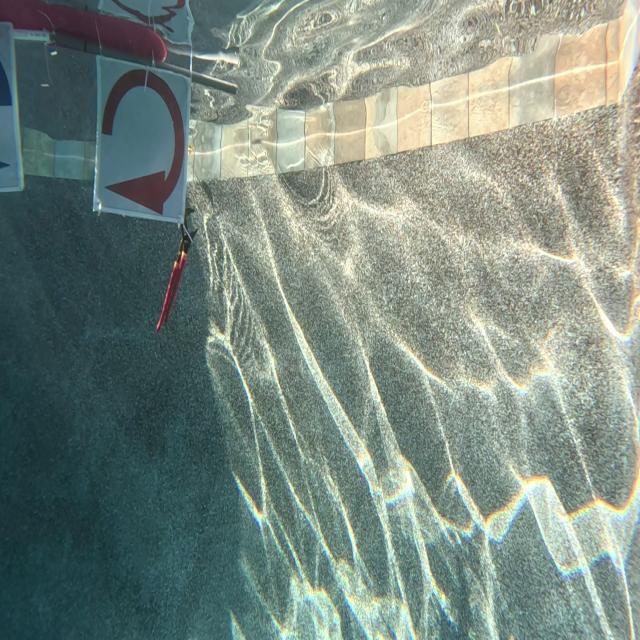blue_side: (0, 24, 23, 196)
red_side: (95, 51, 186, 228)
